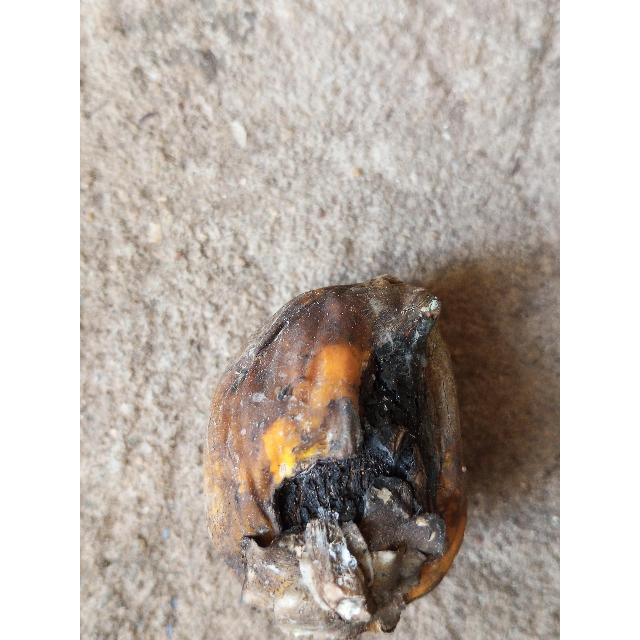damaged: (203, 276, 470, 634)
